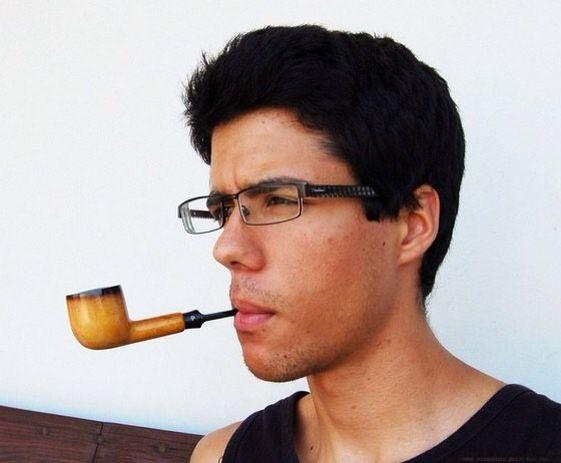trubka: (65, 284, 239, 350)
